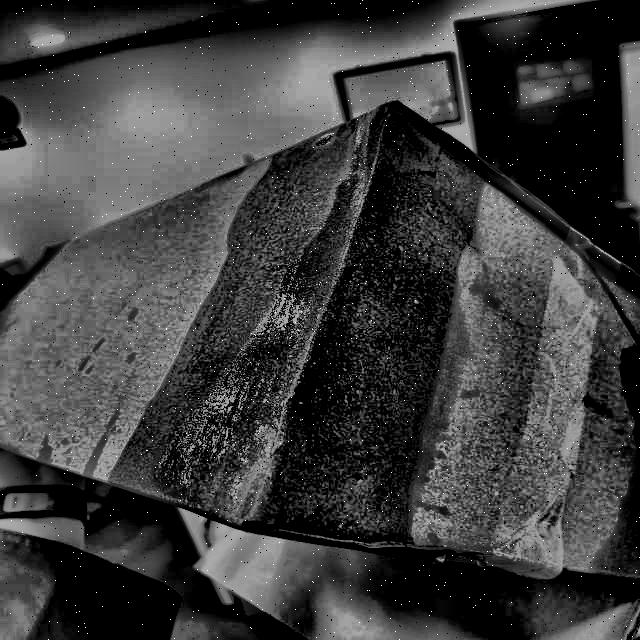box: (0, 94, 639, 639)
wet: (118, 102, 515, 550)
